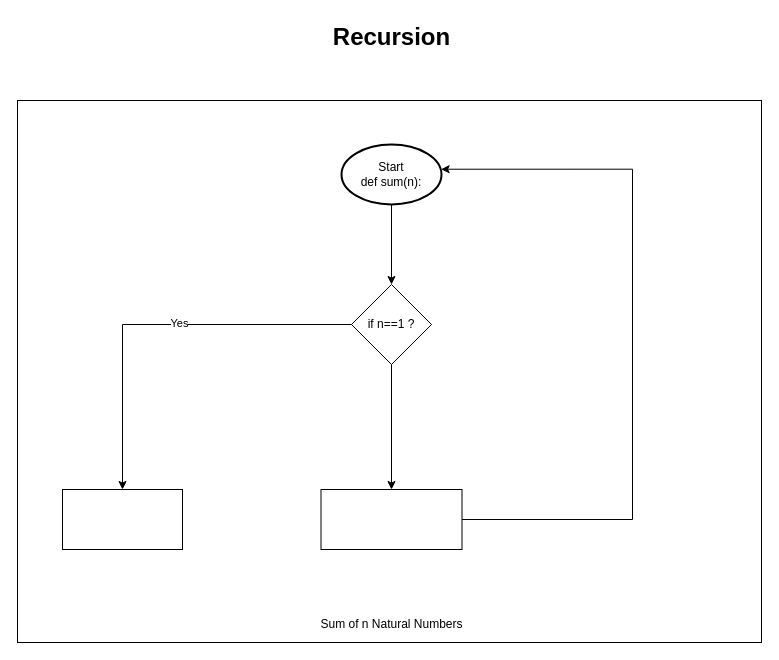
Some shapes in this 779 by 660 pixel diagram are drawn without their labels. The shapes that lost their labels are listed below. From the top down, each one's centre as x and y in pixels, then its label:
(122,519): return sum
(391,519): Sum(n) = n + sum(n-1)
